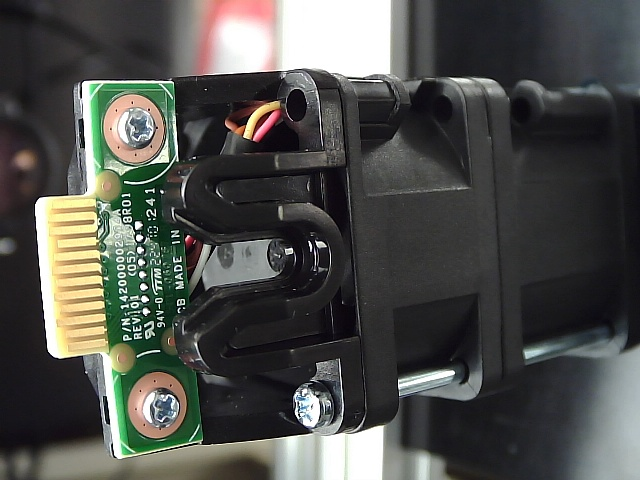3_0: (35, 47, 640, 480)
